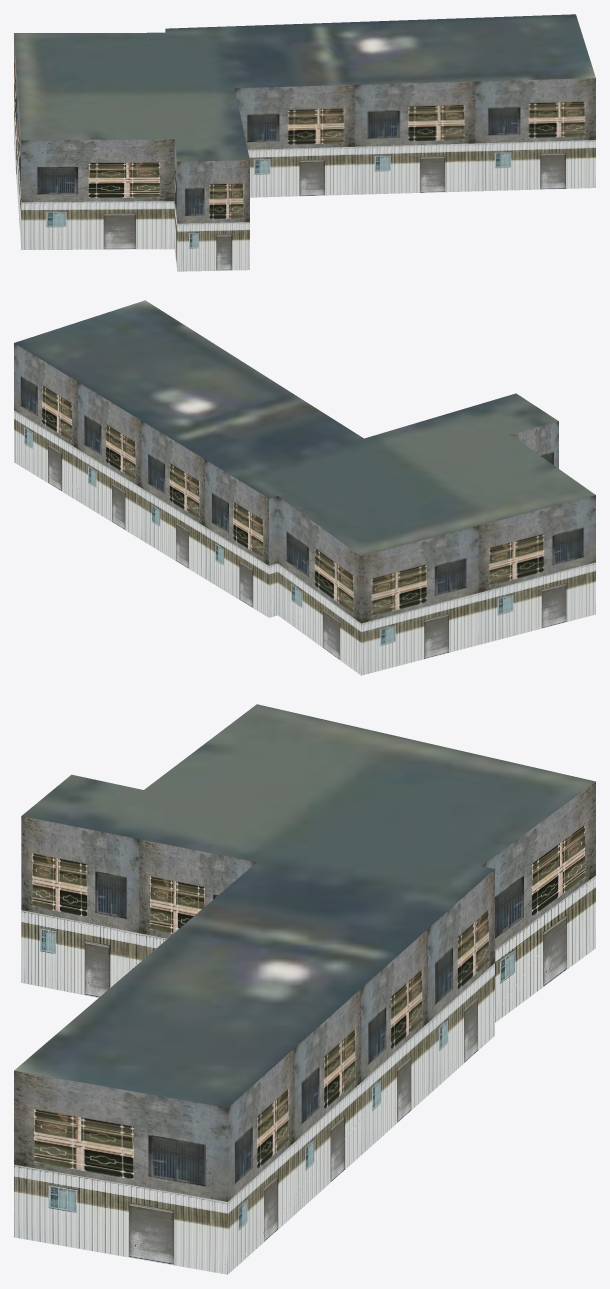
The model's file is T_1T0N74NVK8.dae.
3 views of the same model, one above another, from view 1: azimuth 30°, elevation 25°; view 2: azimuth 150°, elevation 25°; view 3: azimuth 270°, elevation 25° (orthographic). The views are drawn at different scales.
Visible parts, largest first — view 1: SketchUp (×3); view 2: SketchUp (×3); view 3: SketchUp (×3).
Part boxes in pixels (bbox=[...]): SketchUp (×3): bbox=[14, 14, 595, 271]; SketchUp (×3): bbox=[14, 300, 595, 675]; SketchUp (×3): bbox=[14, 704, 595, 1274].
Size of the model in its own units: 1547 by 942 by 298.
3 materials, 3 textured.
